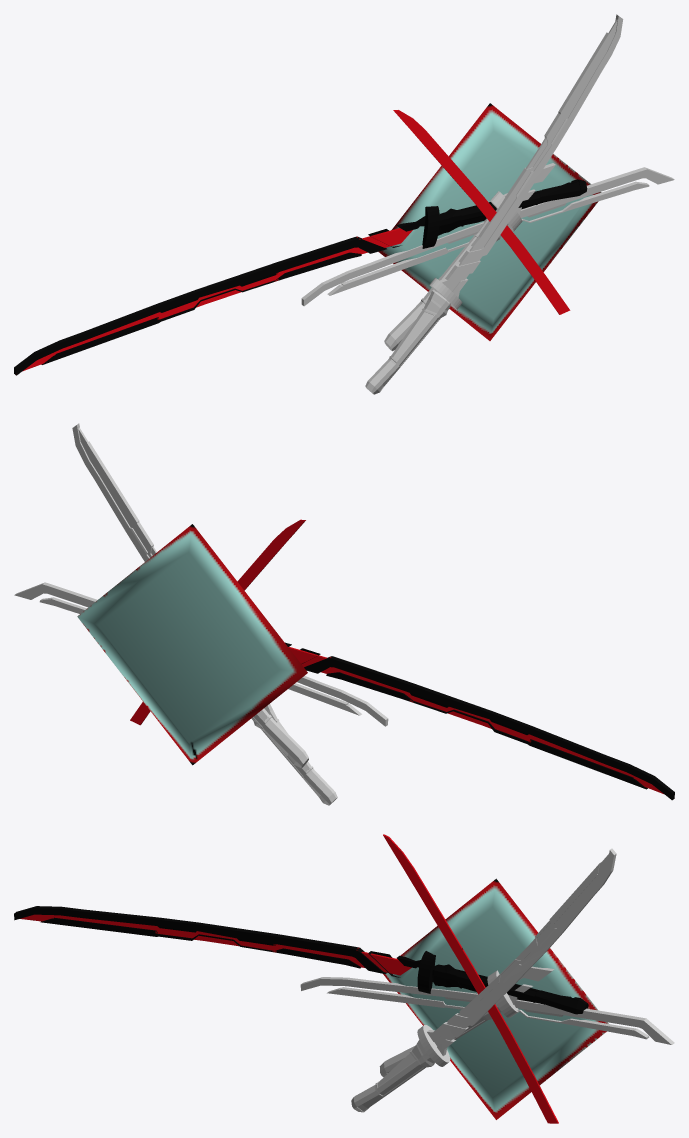
Rendered from raye.obj.
The picture shows the model from 3 angles, top to bottom: view 1: azimuth 30°, elevation 25°; view 2: azimuth 150°, elevation 25°; view 3: azimuth 330°, elevation 25°; orthographic projection.
Parts seen in each view (by area): view 1: item_back, item_damaged, blade, item_blade, blade_fragment; view 2: item_back, blade, item_damaged, item_blade, blade_fragment; view 3: item_back, item_damaged, blade, item_blade, blade_fragment.
Boxes of the visible parts, x1,y1,x2,y2 form: item_back: (378, 103, 601, 340); item_damaged: (301, 110, 674, 351); blade: (14, 179, 587, 375); item_blade: (365, 14, 623, 394); blade_fragment: (22, 228, 412, 371); item_back: (77, 524, 307, 765); blade: (285, 642, 674, 800); item_damaged: (14, 519, 388, 768); item_blade: (72, 423, 337, 805); blade_fragment: (288, 647, 663, 793); item_back: (383, 878, 608, 1119); item_damaged: (300, 834, 674, 1123); blade: (14, 906, 588, 1014); item_blade: (351, 848, 616, 1112); blade_fragment: (20, 914, 411, 975).
Bounding box in the file's own units: 406 × 188 × 19.
